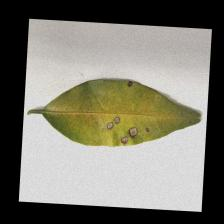canker: (86, 101, 156, 151)
